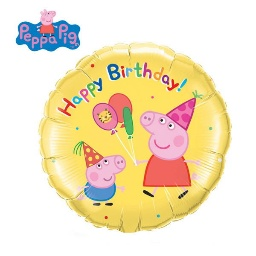Peppa: (134, 99, 200, 199)
